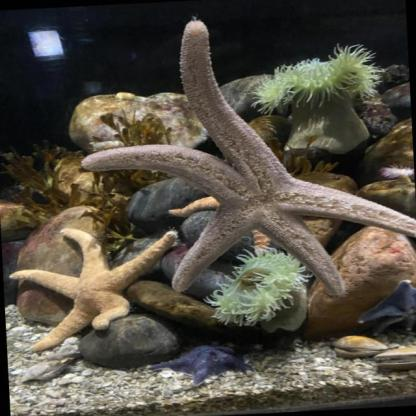starfish: (73, 9, 416, 314), (7, 221, 185, 354)
